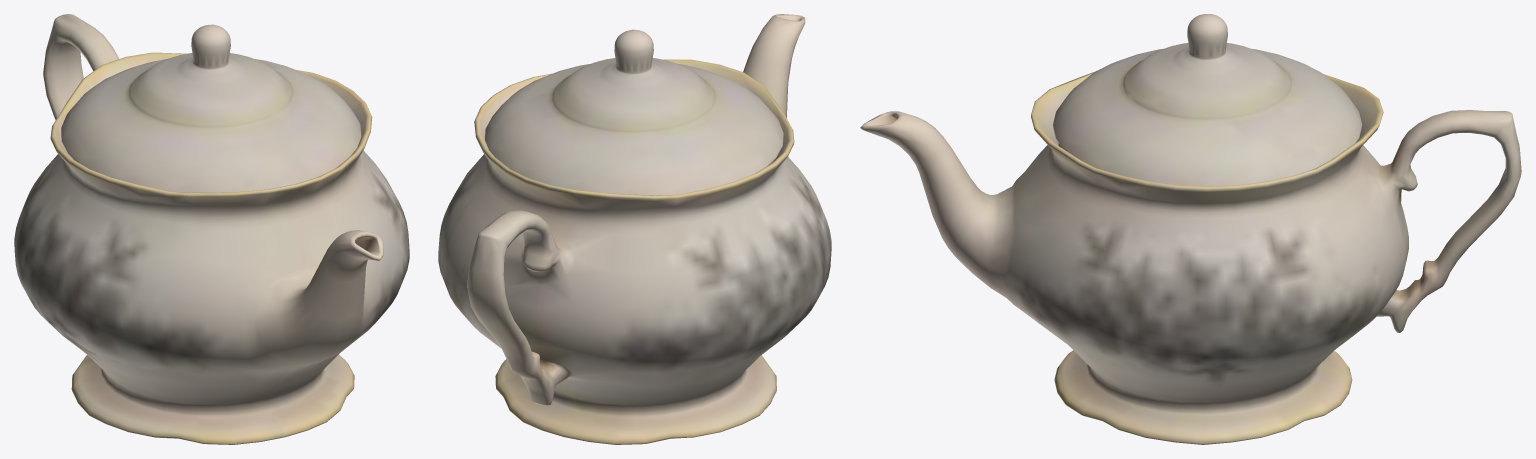
File: teapot.glb
The picture shows the model from 3 angles, left to right: view 1: azimuth 30°, elevation 25°; view 2: azimuth 150°, elevation 25°; view 3: azimuth 270°, elevation 25°; orthographic projection. The views are drawn at different scales.
Visible parts, largest first — view 1: tea_set_01_teapot_01, tea_set_01_teapot_01_lid; view 2: tea_set_01_teapot_01, tea_set_01_teapot_01_lid; view 3: tea_set_01_teapot_01, tea_set_01_teapot_01_lid.
Part boxes in pixels (x1,y1,x2,y2): tea_set_01_teapot_01: (14,14,409,444); tea_set_01_teapot_01_lid: (61,24,361,192); tea_set_01_teapot_01: (438,14,831,444); tea_set_01_teapot_01_lid: (485,29,783,195); tea_set_01_teapot_01: (860,69,1521,444); tea_set_01_teapot_01_lid: (1053,14,1362,186).
Bounding box in the file's own units: 0.1647 × 0.1643 × 0.2678.
1 material, 1 textured.
